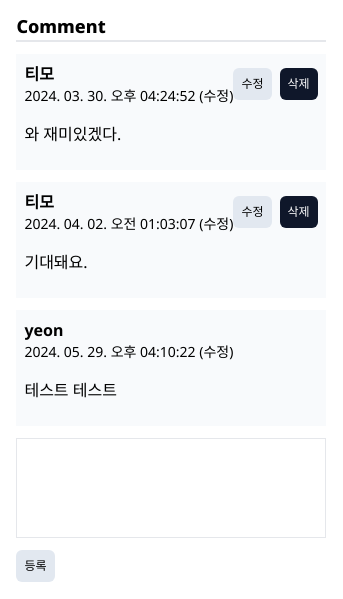
Scenario: delete › 댓글 '삭제' 버튼을 클릭하면 댓글 리스트에서 해당 댓글이 사라진다.
The width and height of the screenshot is (343, 599).
Click the button "삭제" in the row of "2024. 03. 30. 오후 04:24:52 (수정)" at (299, 84), box [280,68,318,100]
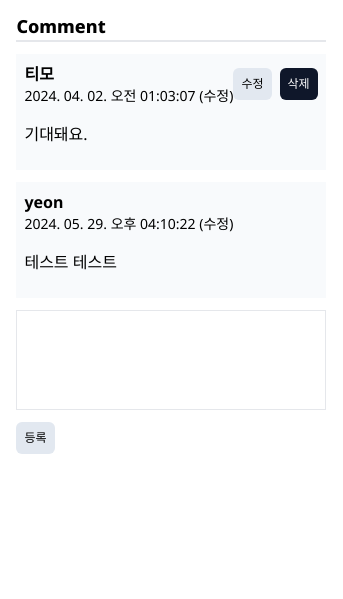
Expected: the text "와 재미있겠다." is gone
